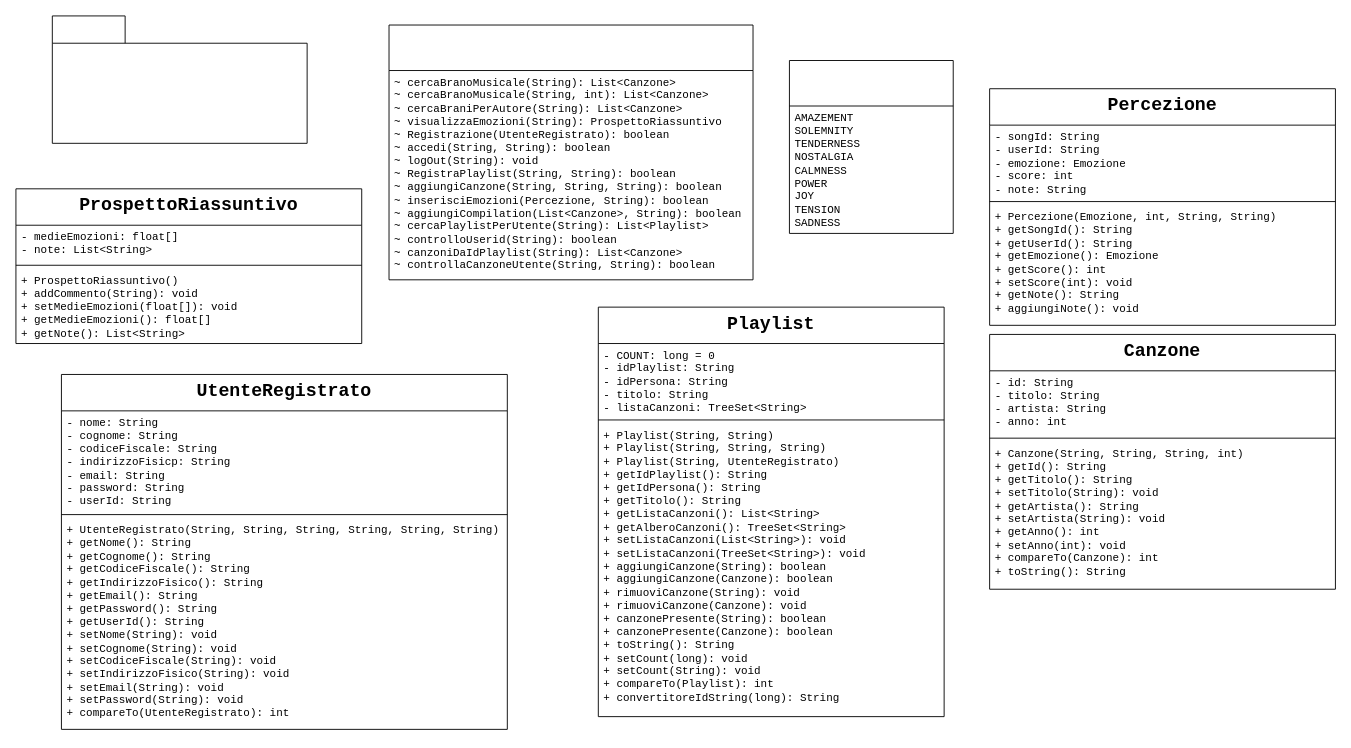
Some shapes in this 1351 by 748 pixel diagram are drawn without their labels. Each missing label, with the box of its shape:
Common: (51, 15, 307, 143)
«enumeration» Emozione: (789, 60, 953, 233)
«interface» EmotionalSongsInterface: (388, 24, 753, 280)
